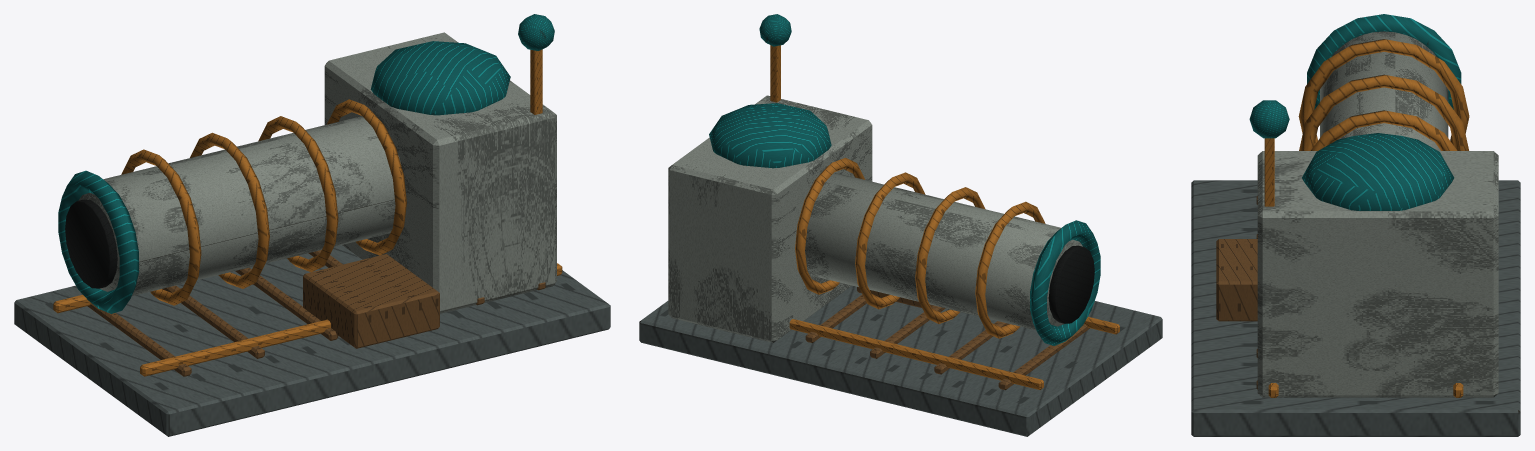
The model's file is mass-driver-dispatch.glb.
The picture shows the model from 3 angles, left to right: view 1: azimuth 30°, elevation 25°; view 2: azimuth 150°, elevation 25°; view 3: azimuth 270°, elevation 25°; orthographic projection. The views are drawn at different scales.
Parts seen in each view (by area): view 1: mass-driver-dispatch; view 2: mass-driver-dispatch; view 3: mass-driver-dispatch.
Part boxes in pixels (<box>): mass-driver-dispatch: <box>14,14,610,436</box>; mass-driver-dispatch: <box>639,14,1162,436</box>; mass-driver-dispatch: <box>1191,14,1520,436</box>.
Size of the model in its own units: 5.45 by 3.48 by 3.28.
1 material, 1 textured.
